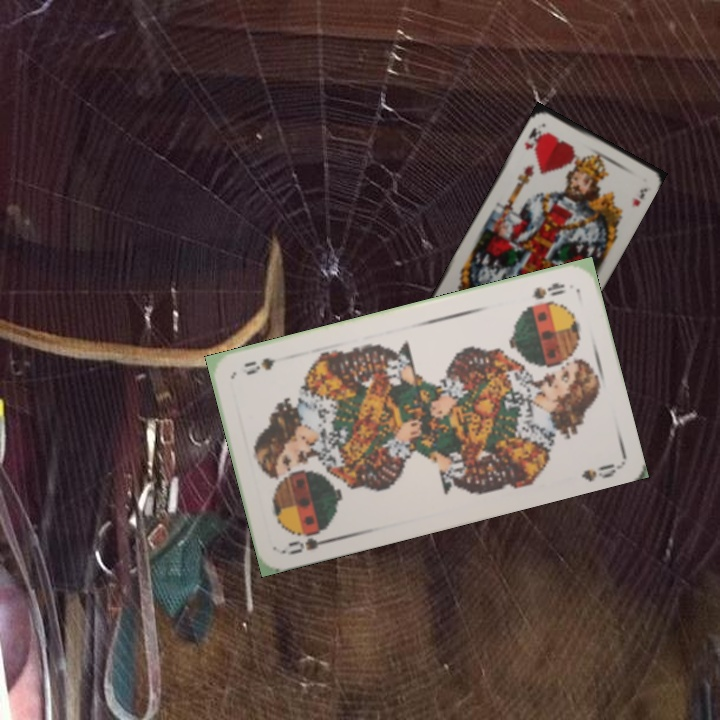HK: (520, 123, 546, 153)
SO: (280, 524, 339, 558), (527, 278, 569, 302)
